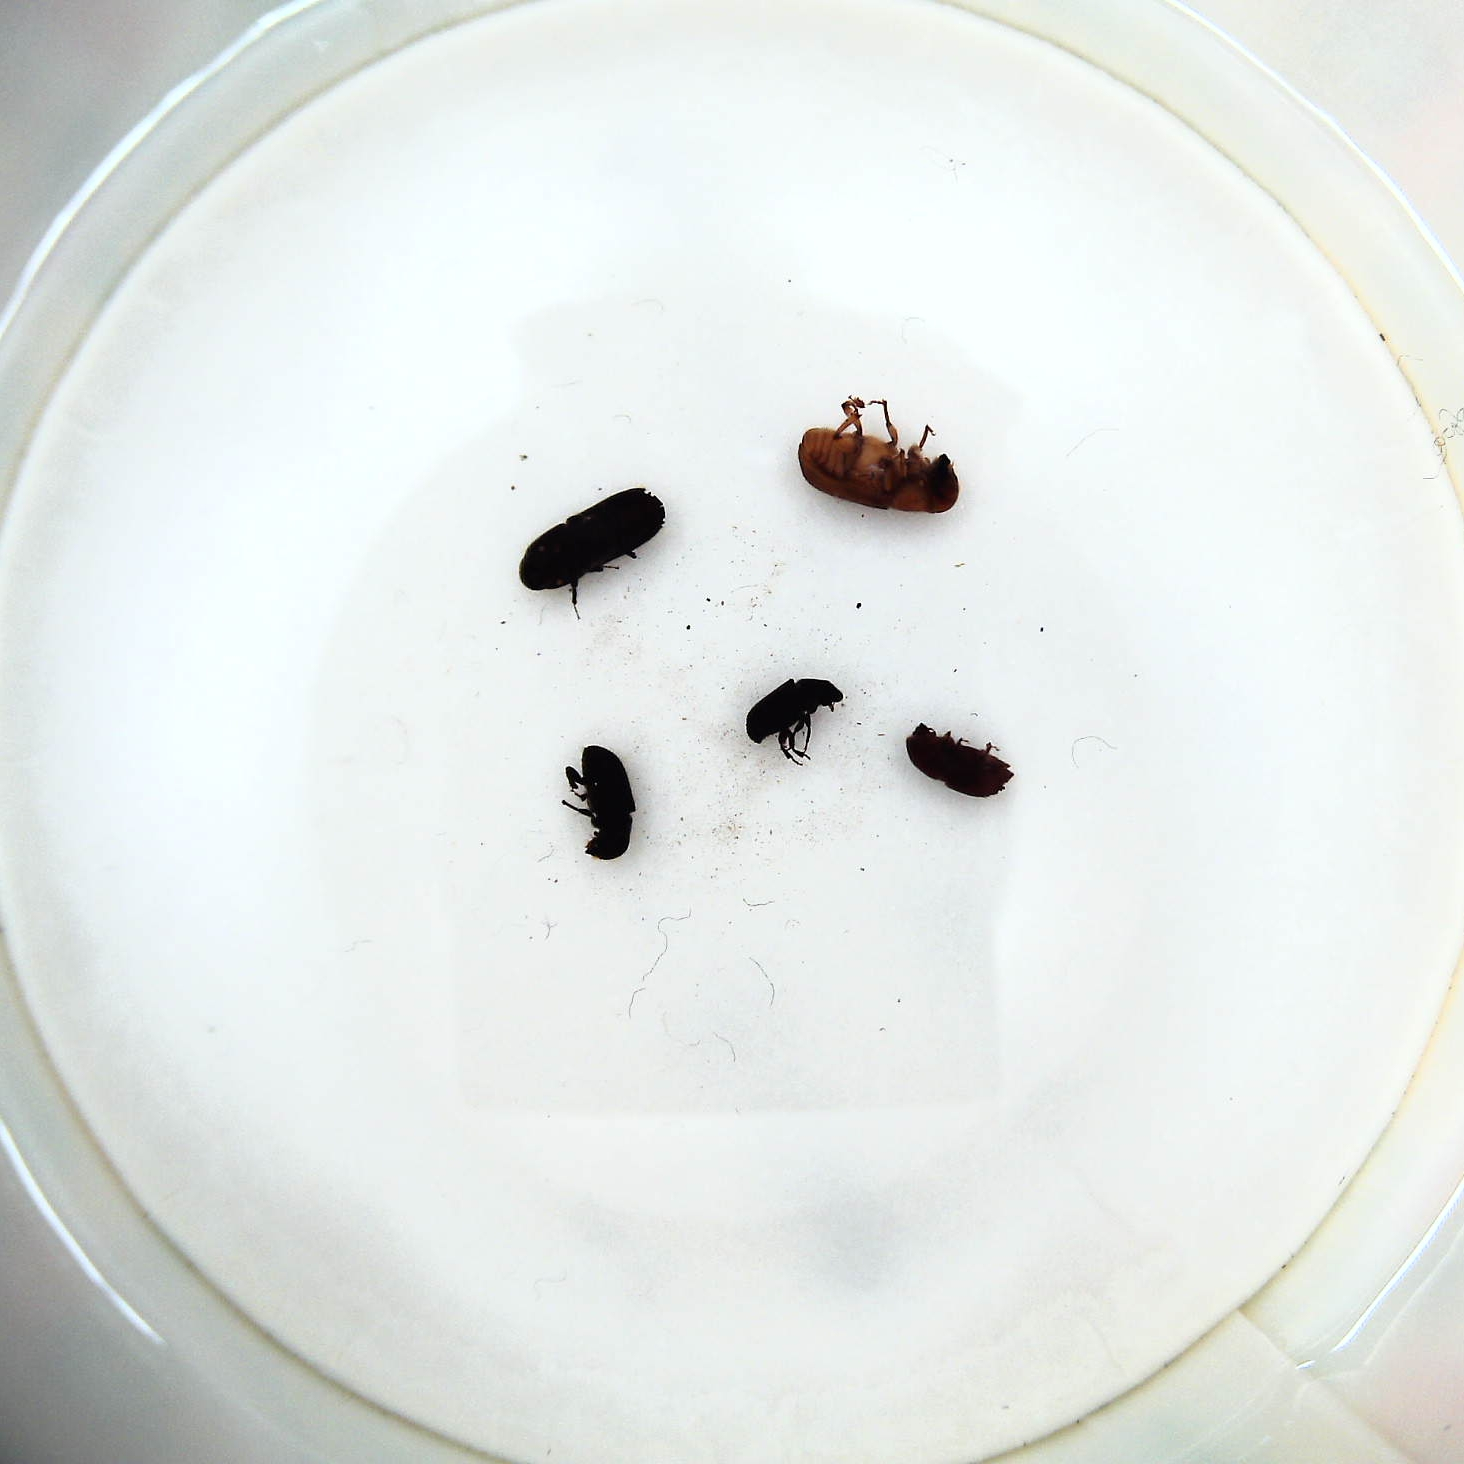Boerner: (513, 484, 670, 606)
Leconte: (794, 395, 965, 523)
armandi: (560, 745, 639, 867)
coleoptera: (743, 672, 845, 767)
linnaeus: (904, 720, 1014, 803)
